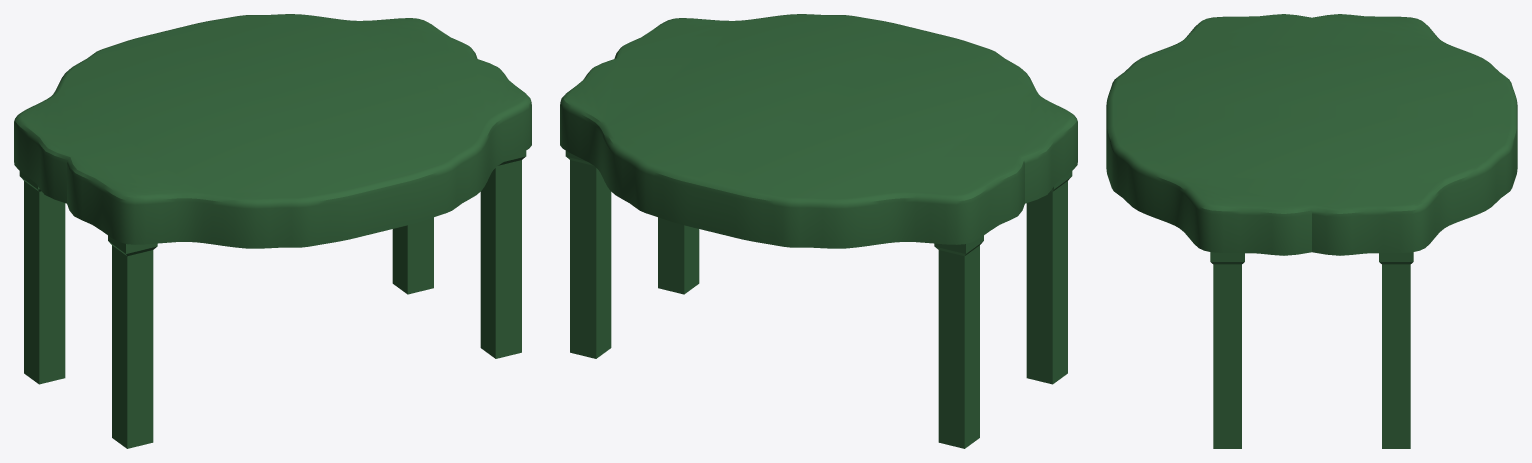
Rendered from table14.fbx.
The picture shows the model from 3 angles, left to right: view 1: azimuth 30°, elevation 25°; view 2: azimuth 150°, elevation 25°; view 3: azimuth 270°, elevation 25°; orthographic projection. The views are drawn at different scales.
Visible parts, largest first — view 1: Table14; view 2: Table14; view 3: Table14.
Boxes of the visible parts, x1,y1,x2,y2 form: Table14: [14, 14, 531, 448]; Table14: [560, 14, 1077, 448]; Table14: [1106, 14, 1517, 448].
Size of the model in its own units: 131 by 75.25 by 114.
